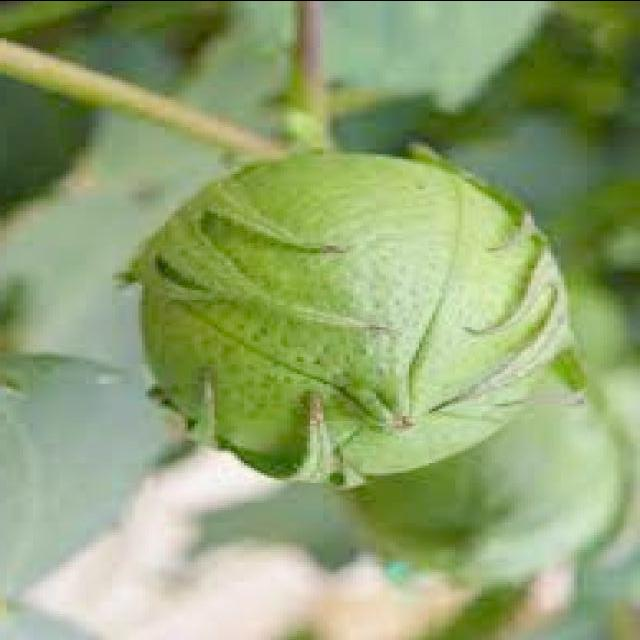Early Boll: (129, 152, 587, 482)
